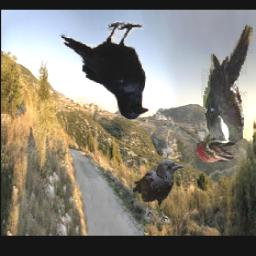Crow: (58, 22, 152, 122), (133, 160, 186, 224)
Woodpecker: (196, 25, 252, 162)
